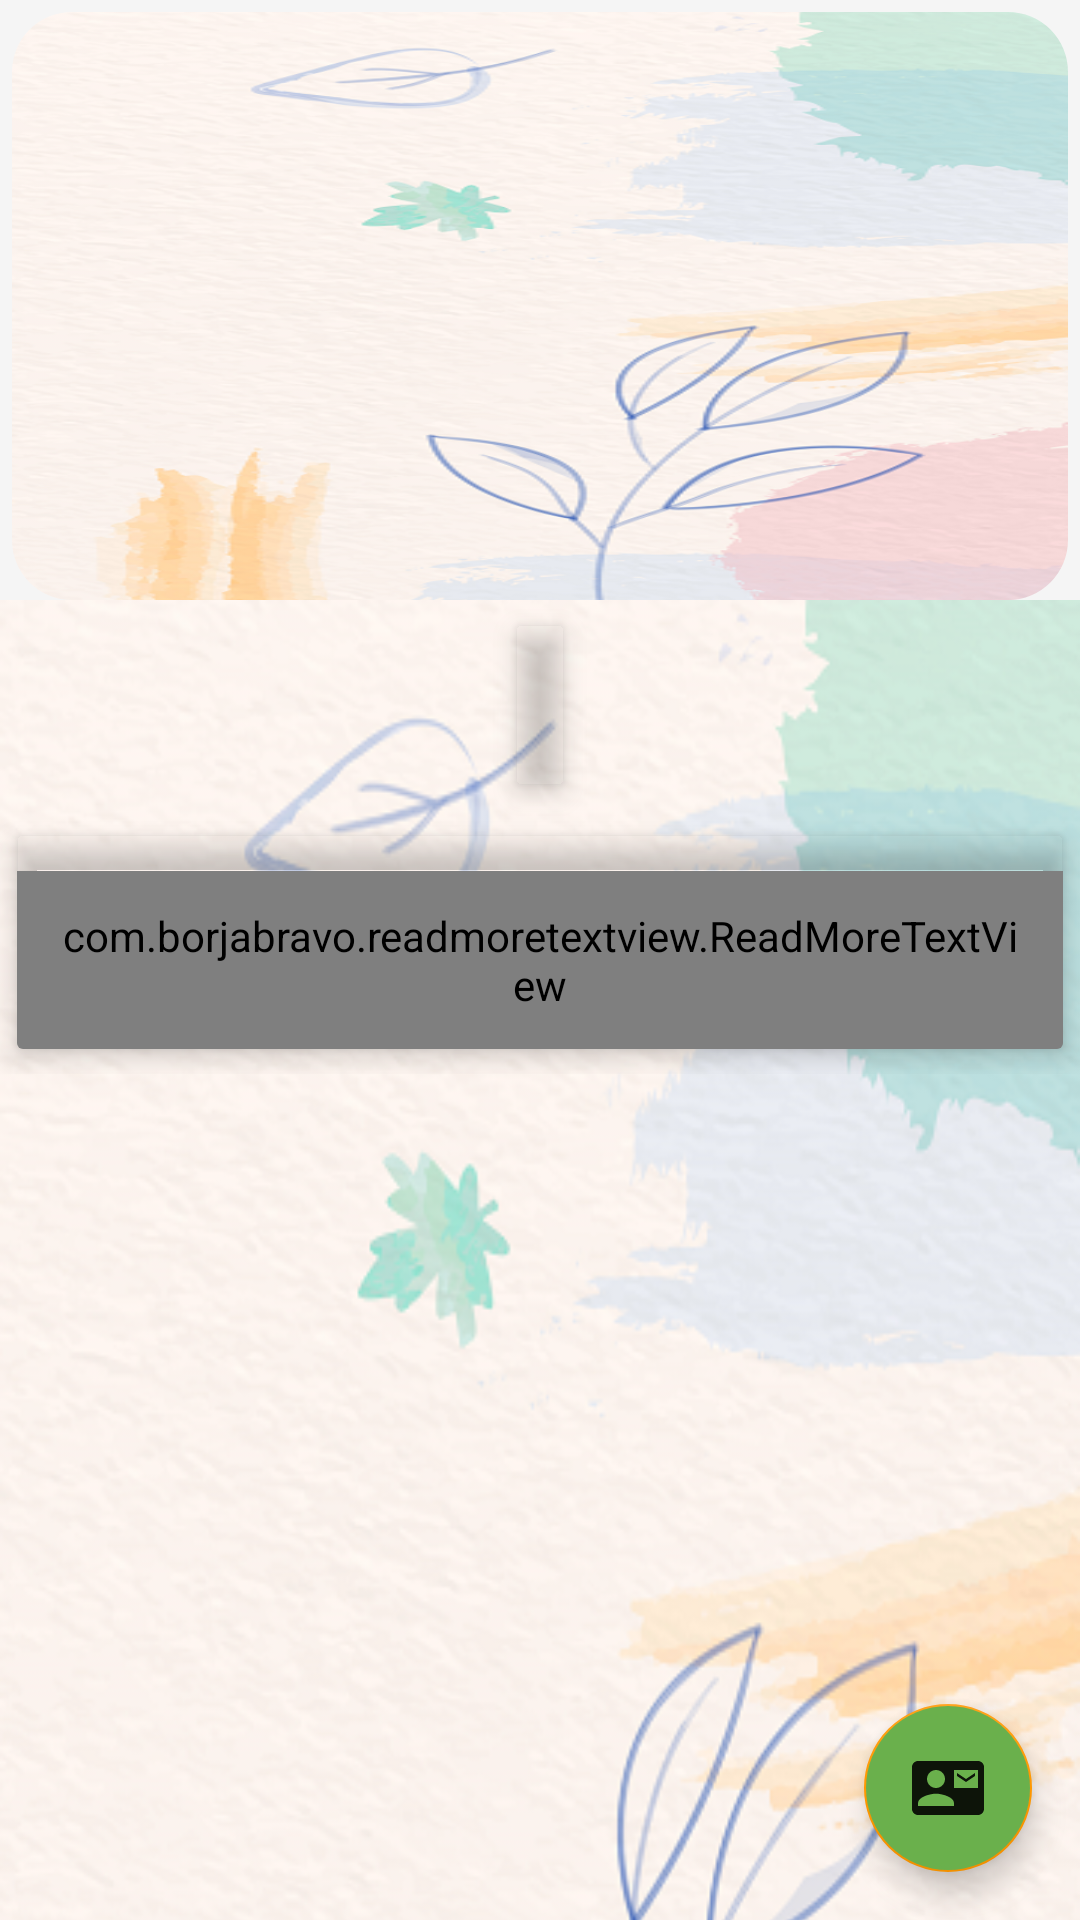

Screen size 1080*1920. Icon name, then its box in pixels as (x1, y1, x2, y2):
contact mail: (864, 1704, 1032, 1872)
